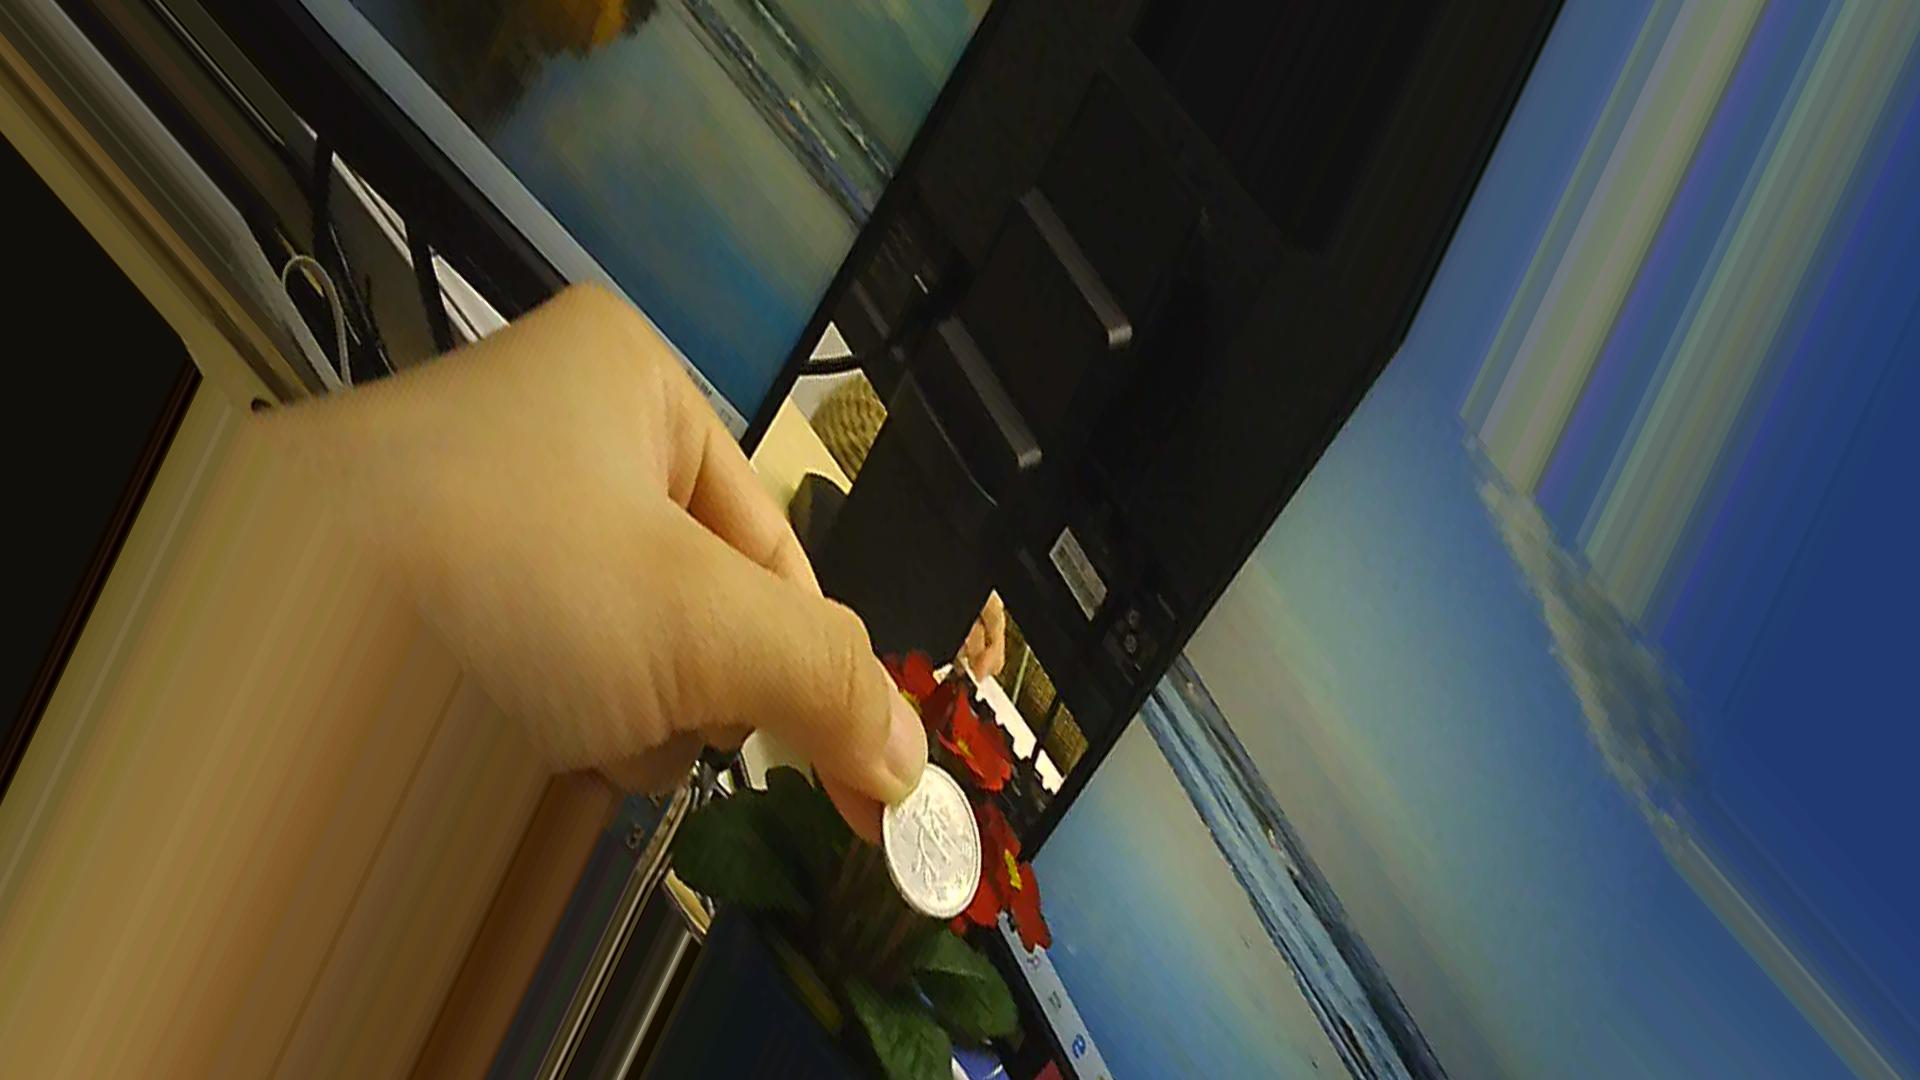1 Yen: (872, 746, 993, 926)
